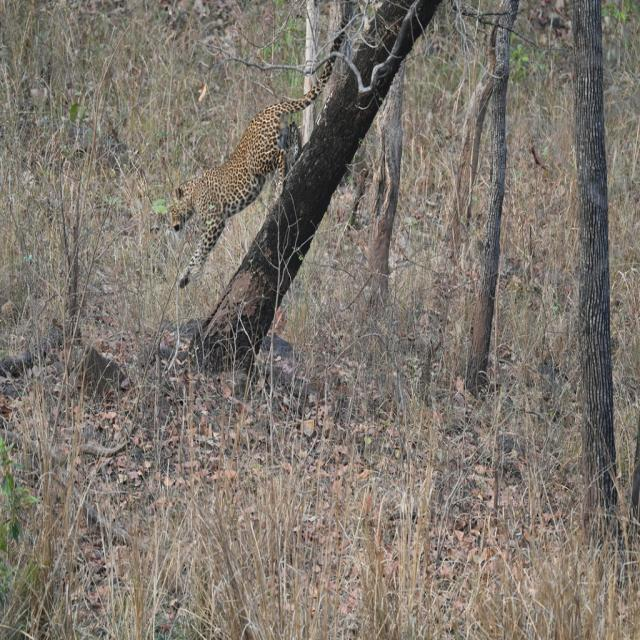Leopard: (166, 29, 342, 292)
